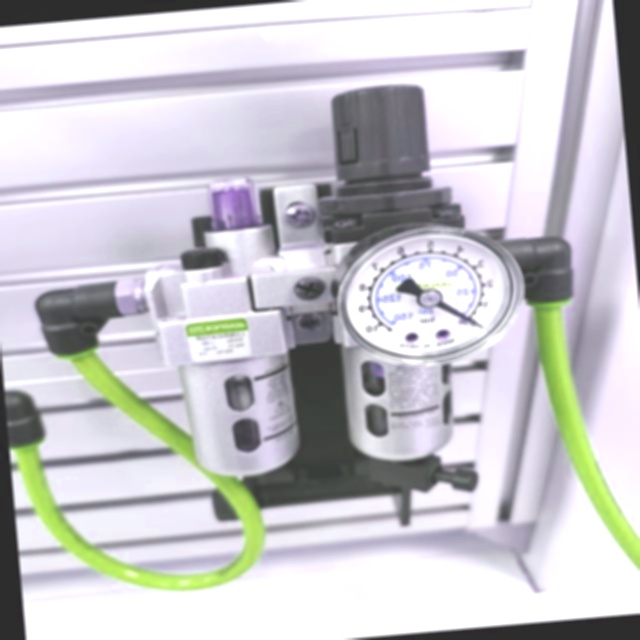FRL unit: (12, 59, 604, 542)
push button: (330, 213, 532, 373)
